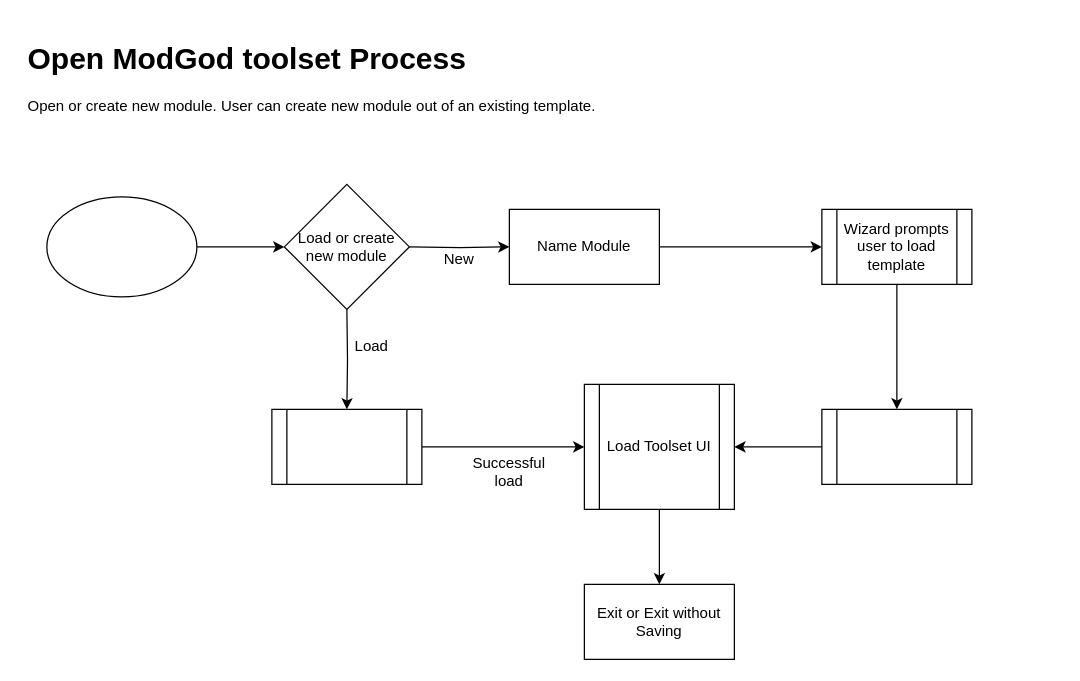
The diagram is 1080 pixels wide and 681 high, and some of its shapes have lost their labels. Each missing label, with the centre of its shape:
Load module process: pixel 346 446
Open Toolset: pixel 121 246
Save Module: pixel 896 446
